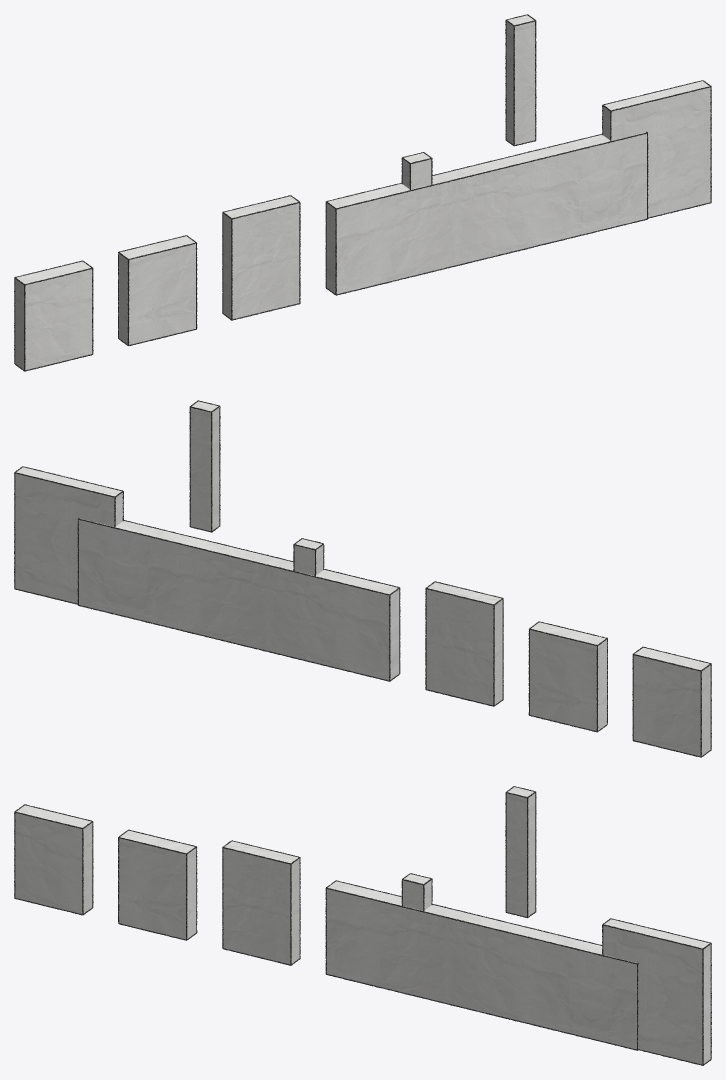
File: voorgrond_level0.glb
3 views of the same model, one above another, from view 1: azimuth 30°, elevation 25°; view 2: azimuth 150°, elevation 25°; view 3: azimuth 330°, elevation 25° (orthographic).
Visible parts, largest first — view 1: tutorial_platform_4, tutorial_platform_5, tutorial_platform_3, tutorial_platform_1, tutorial_platform_2, tutorial_balk_hangend, tutorial_blokje; view 2: tutorial_platform_4, tutorial_platform_5, tutorial_platform_3, tutorial_platform_1, tutorial_platform_2, tutorial_balk_hangend, tutorial_blokje; view 3: tutorial_platform_4, tutorial_platform_5, tutorial_platform_3, tutorial_platform_1, tutorial_platform_2, tutorial_balk_hangend, tutorial_blokje.
Boxes of the visible parts, x1,y1,x2,y2 form: tutorial_platform_4: (325, 131, 648, 295); tutorial_platform_5: (602, 80, 711, 218); tutorial_platform_3: (222, 195, 300, 320); tutorial_platform_1: (14, 260, 93, 371); tutorial_platform_2: (118, 235, 197, 345); tutorial_balk_hangend: (505, 14, 536, 146); tutorial_blokje: (401, 152, 432, 189); tutorial_platform_4: (77, 518, 400, 681); tutorial_platform_5: (14, 466, 123, 604); tutorial_platform_3: (425, 581, 503, 706); tutorial_platform_1: (632, 646, 711, 757); tutorial_platform_2: (528, 621, 607, 732); tutorial_balk_hangend: (189, 400, 220, 532); tutorial_blokje: (293, 538, 324, 576); tutorial_platform_4: (325, 880, 638, 1050); tutorial_platform_5: (602, 918, 711, 1065); tutorial_platform_3: (222, 840, 300, 965); tutorial_platform_1: (14, 804, 93, 915); tutorial_platform_2: (118, 829, 197, 940); tutorial_balk_hangend: (505, 786, 536, 918); tutorial_blokje: (401, 873, 432, 910).
Bounding box in the file's own units: 57.73 × 18.13 × 1.57.
2 materials, 1 textured.
